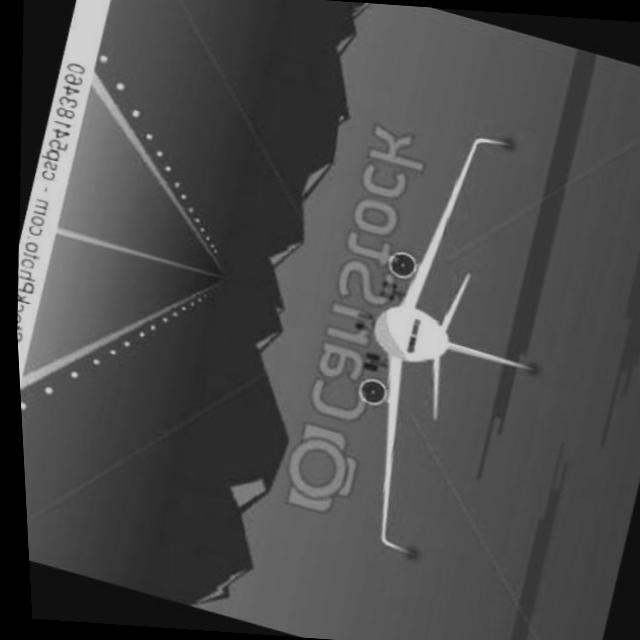aeroplane: (282, 99, 617, 602)
